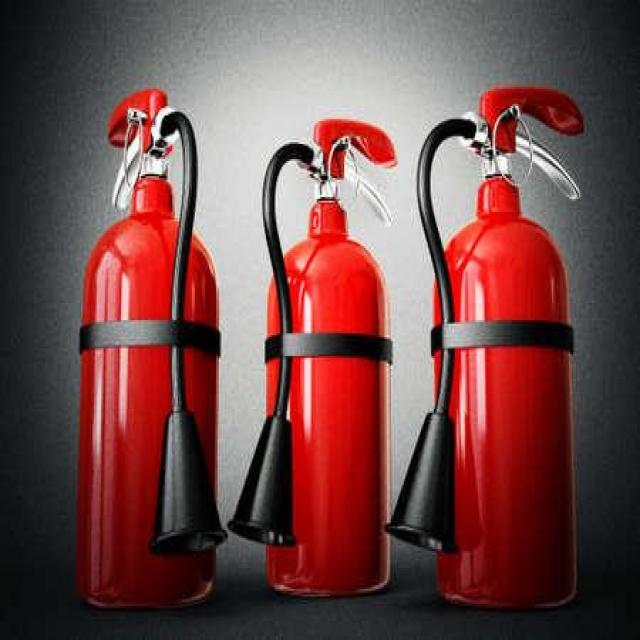fire_extinguisher: (378, 77, 589, 610), (222, 112, 398, 602), (74, 84, 228, 616)
